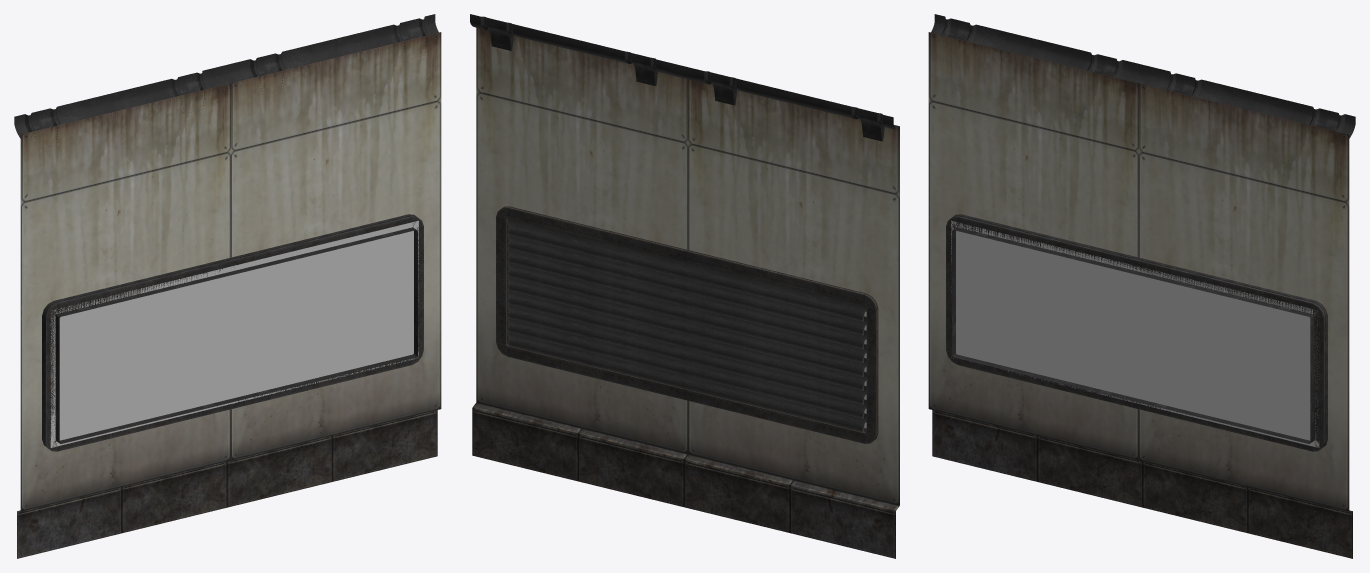
File: lab_window_large_shutter_closed.dae
3 renders of one model, left to right at view 1: azimuth 30°, elevation 25°; view 2: azimuth 150°, elevation 25°; view 3: azimuth 330°, elevation 25°, orthographic.
Parts seen in each view (by area): view 1: lab_window_large_shutter_closed, glass__6_; view 2: lab_window_large_shutter_closed, shutter_large_closed; view 3: lab_window_large_shutter_closed, glass__6_.
Boxes of the visible parts, x1,y1,x2,y2 form: lab_window_large_shutter_closed: (14, 14, 441, 558); glass__6_: (50, 220, 418, 447); lab_window_large_shutter_closed: (470, 14, 899, 558); shutter_large_closed: (506, 218, 866, 432); lab_window_large_shutter_closed: (928, 14, 1355, 558); glass__6_: (951, 220, 1319, 447).
Size of the model in its own units: 4 by 4 by 0.2276.
